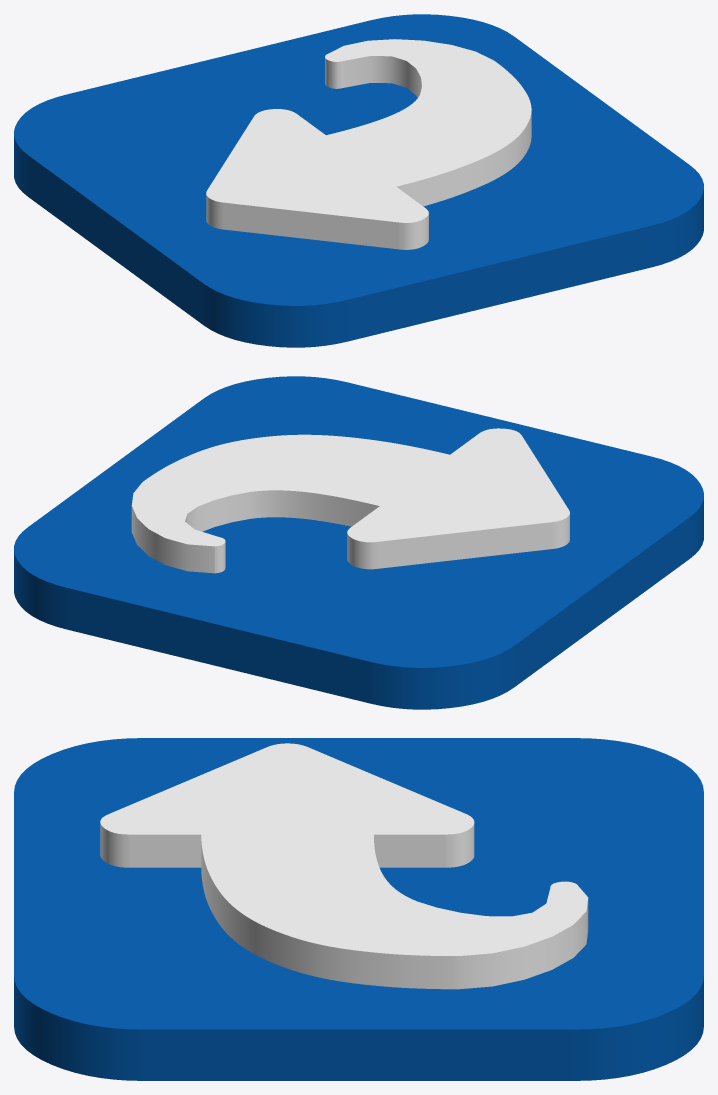
The model's file is back.FBX.
3 views of the same model, one above another, from view 1: azimuth 30°, elevation 25°; view 2: azimuth 150°, elevation 25°; view 3: azimuth 270°, elevation 25° (orthographic). The views are drawn at different scales.
Parts seen in each view (by area): view 1: Shape3, Shape6; view 2: Shape3, Shape6; view 3: Shape3, Shape6.
Boxes of the visible parts, x1,y1,x2,y2 form: Shape3: [14, 14, 703, 347]; Shape6: [206, 39, 531, 249]; Shape3: [14, 376, 703, 709]; Shape6: [131, 428, 569, 573]; Shape3: [14, 738, 703, 1080]; Shape6: [100, 743, 588, 989].
Size of the model in its own units: 36.62 by 4.95 by 36.62.
